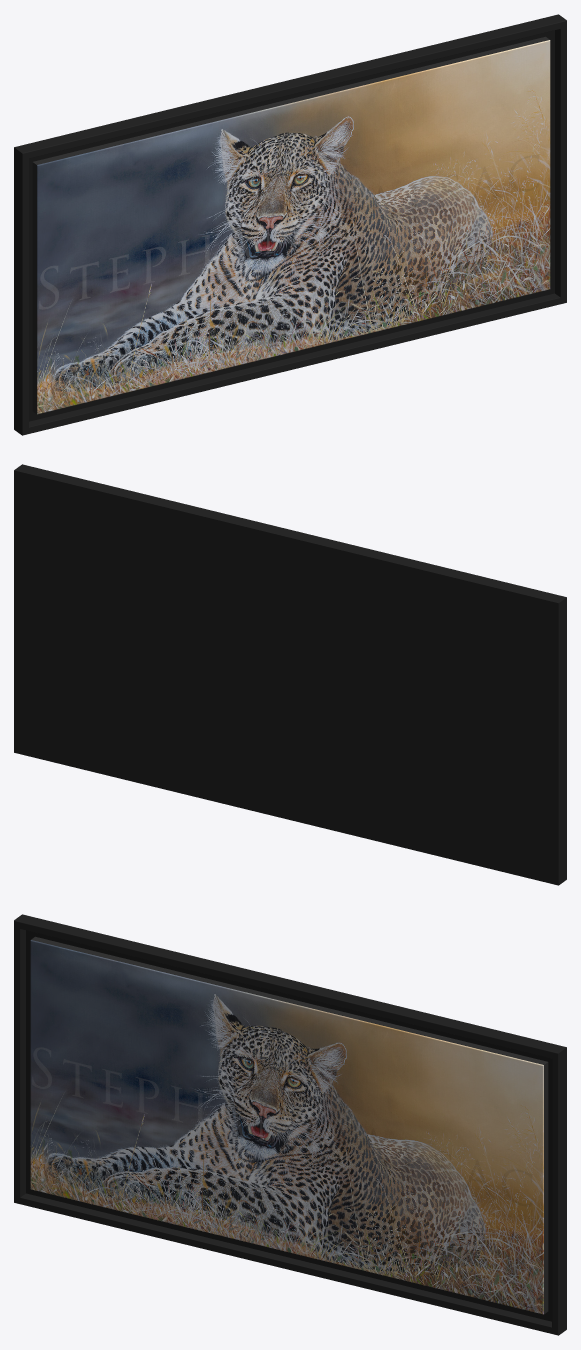
File: tableau-portrait-leopard-2-grand-d3f6cc42.glb
3 views of the same model, one above another, from view 1: azimuth 30°, elevation 25°; view 2: azimuth 150°, elevation 25°; view 3: azimuth 330°, elevation 25° (orthographic).
Visible parts, largest first — view 1: Painting; view 2: Painting; view 3: Painting.
Boxes of the visible parts, bbox=[...] form: Painting: bbox=[14, 14, 566, 435]; Painting: bbox=[14, 464, 566, 885]; Painting: bbox=[14, 914, 566, 1335].
Size of the model in its own units: 1.49 by 0.736 by 0.04.
4 materials, 2 textured.
